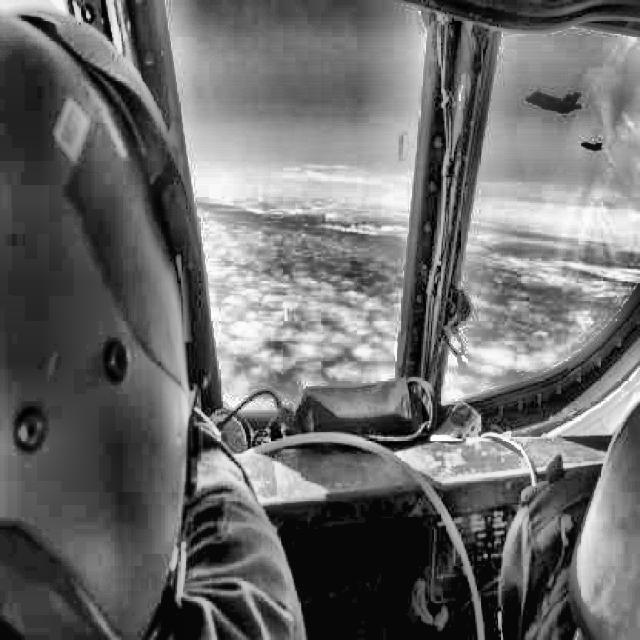F35: (526, 92, 582, 113), (580, 142, 603, 150)
